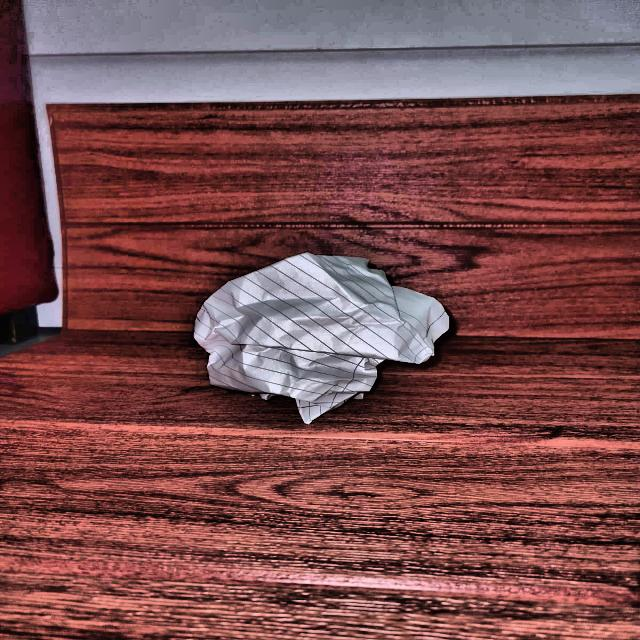Paper: (186, 250, 458, 408)
